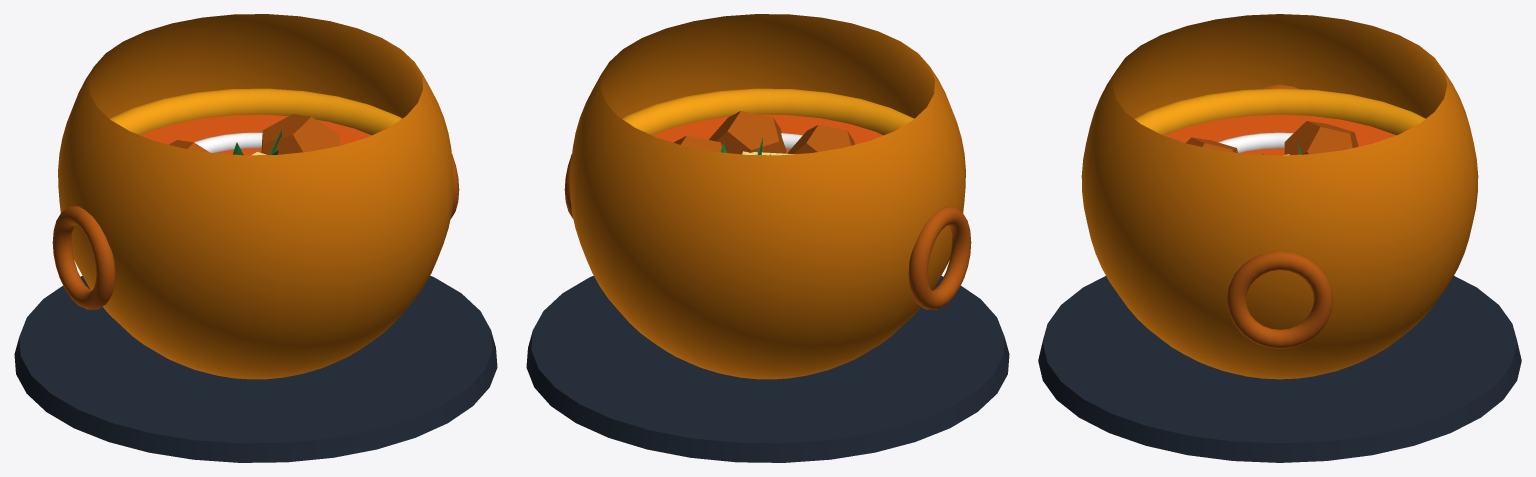
Rendered from butter-chicken.glb.
3 renders of one model, left to right at view 1: azimuth 30°, elevation 25°; view 2: azimuth 150°, elevation 25°; view 3: azimuth 270°, elevation 25°, orthographic.
Bounding box in the file's own units: 0.2 × 0.1259 × 0.2.
